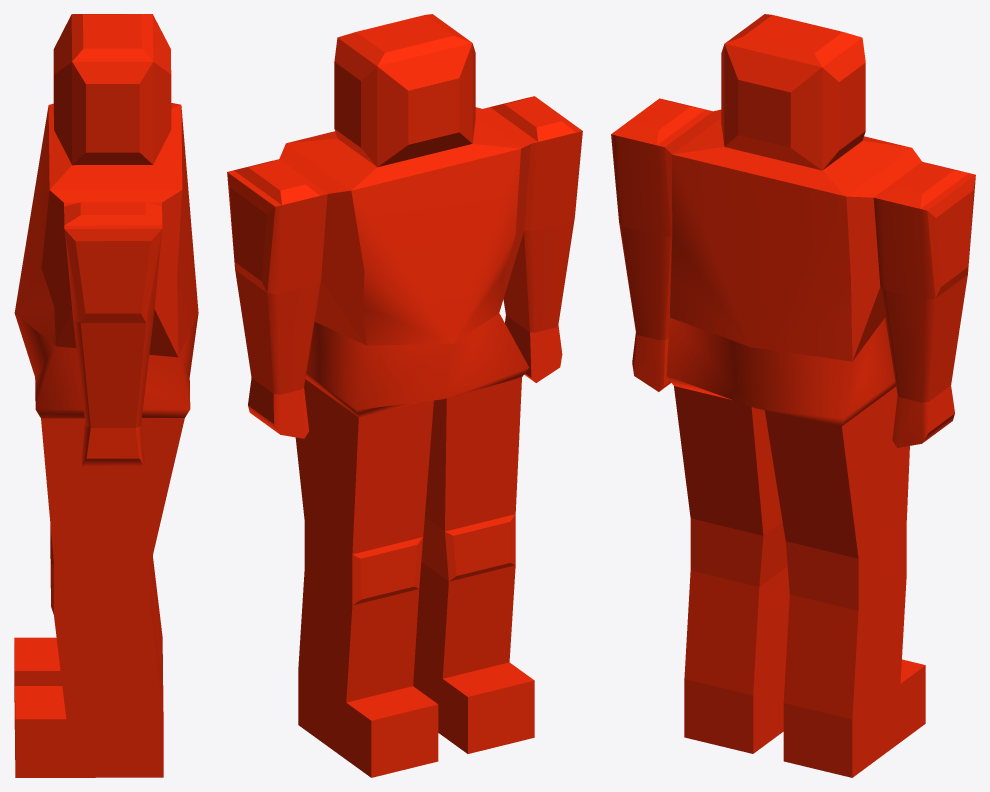
File: aka_TE2.fbx
The picture shows the model from 3 angles, left to right: view 1: azimuth 30°, elevation 25°; view 2: azimuth 150°, elevation 25°; view 3: azimuth 270°, elevation 25°; orthographic projection. The views are drawn at different scales.
Visible parts, largest first — view 1: pCube5; view 2: pCube5; view 3: pCube5.
Part boxes in pixels (bbox=[...]): pCube5: bbox=[14, 14, 198, 777]; pCube5: bbox=[227, 14, 582, 777]; pCube5: bbox=[611, 14, 975, 777].
Size of the model in its own units: 5.9 by 17.26 by 8.1.
